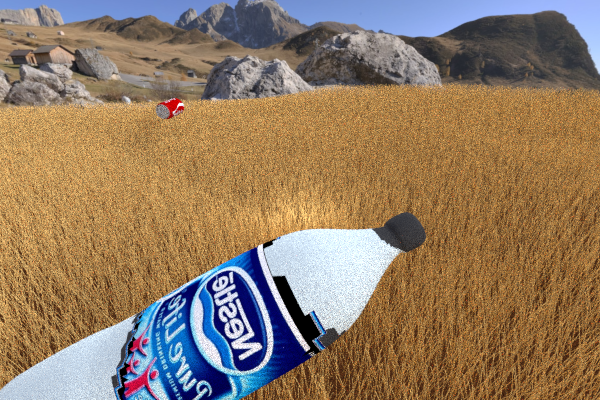bottle: (0, 212, 426, 400)
can: (127, 127, 207, 182), (155, 98, 184, 119)
